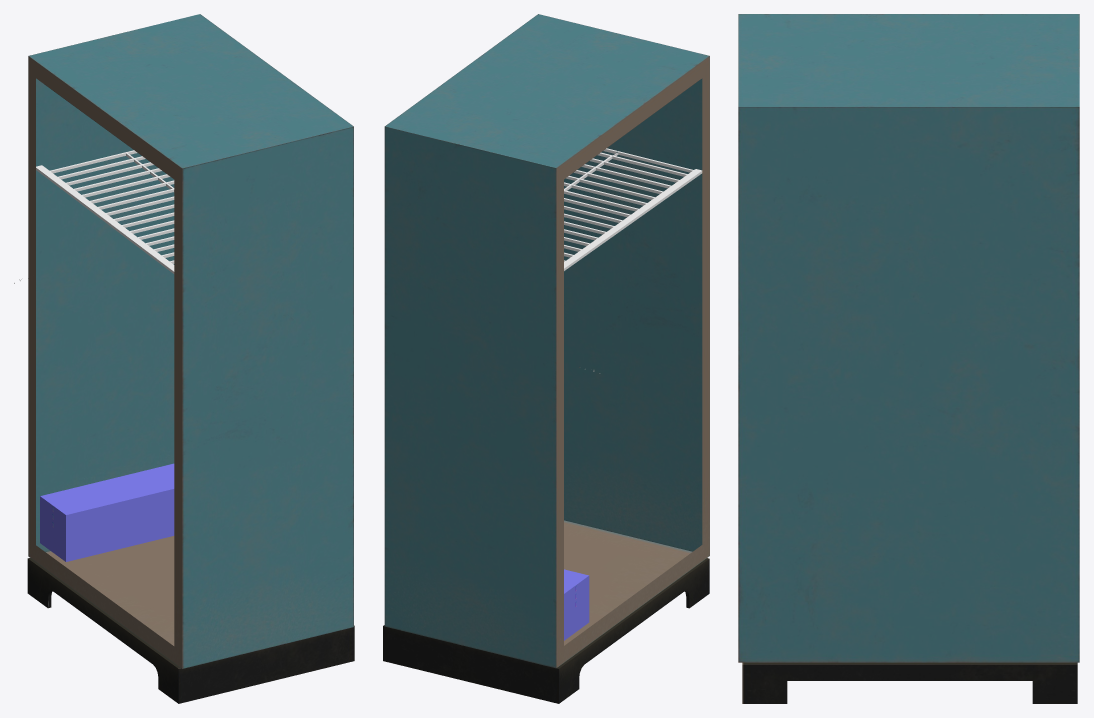
3 views of the same model, side by side, from view 1: azimuth 30°, elevation 25°; view 2: azimuth 150°, elevation 25°; view 3: azimuth 270°, elevation 25° (orthographic). The views are drawn at different scales.
Visible parts, largest first — view 1: pCube211, square, Box033_Chrome_0.001; view 2: pCube211, Box033_Chrome_0.001, square; view 3: pCube211.
Boxes of the visible parts, x1=… form: pCube211: x1=14, y1=14, x2=354, y2=703; square: x1=40, y1=463, x2=174, y2=561; Box033_Chrome_0.001: x1=36, y1=150, x2=174, y2=273; pCube211: x1=383, y1=14, x2=709, y2=703; Box033_Chrome_0.001: x1=564, y1=148, x2=702, y2=270; square: x1=564, y1=569, x2=589, y2=640; pCube211: x1=738, y1=14, x2=1079, y2=703.
Size of the model in its own units: 54.32 by 137 by 71.18.
Materials: 3 (2 with a texture image).
